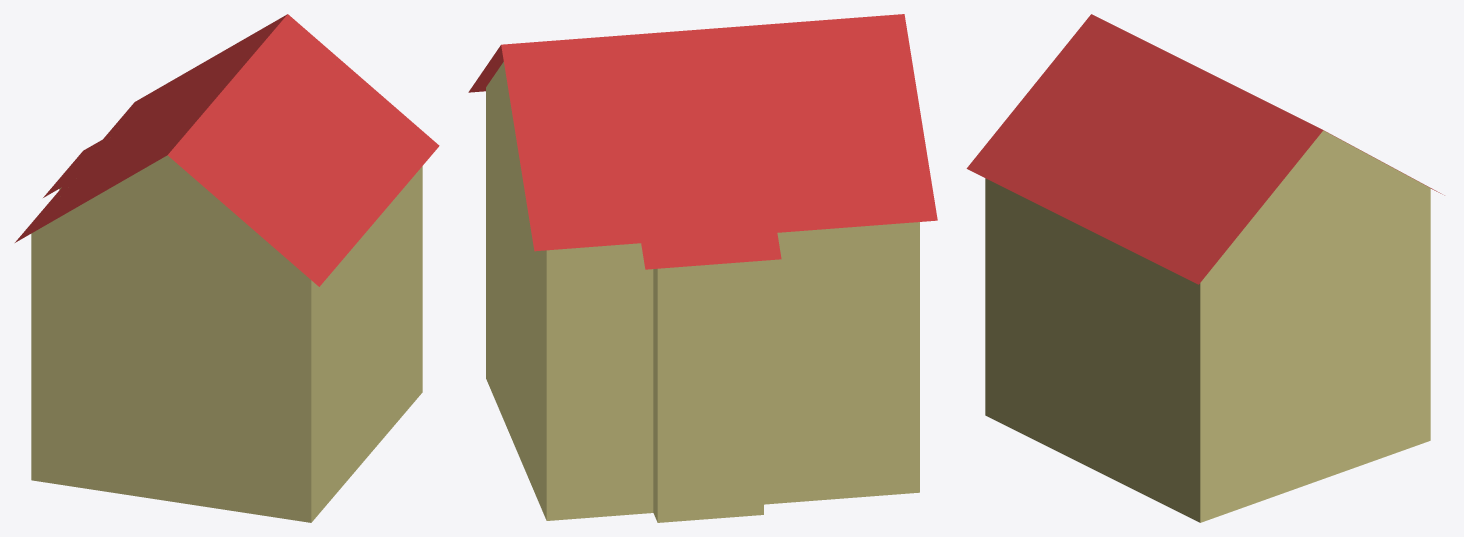
3 views of the same model, side by side, from view 1: azimuth 30°, elevation 25°; view 2: azimuth 150°, elevation 25°; view 3: azimuth 270°, elevation 25° (orthographic). The views are drawn at different scales.
Size of the model in its own units: 18.17 by 18.03 by 14.67.
